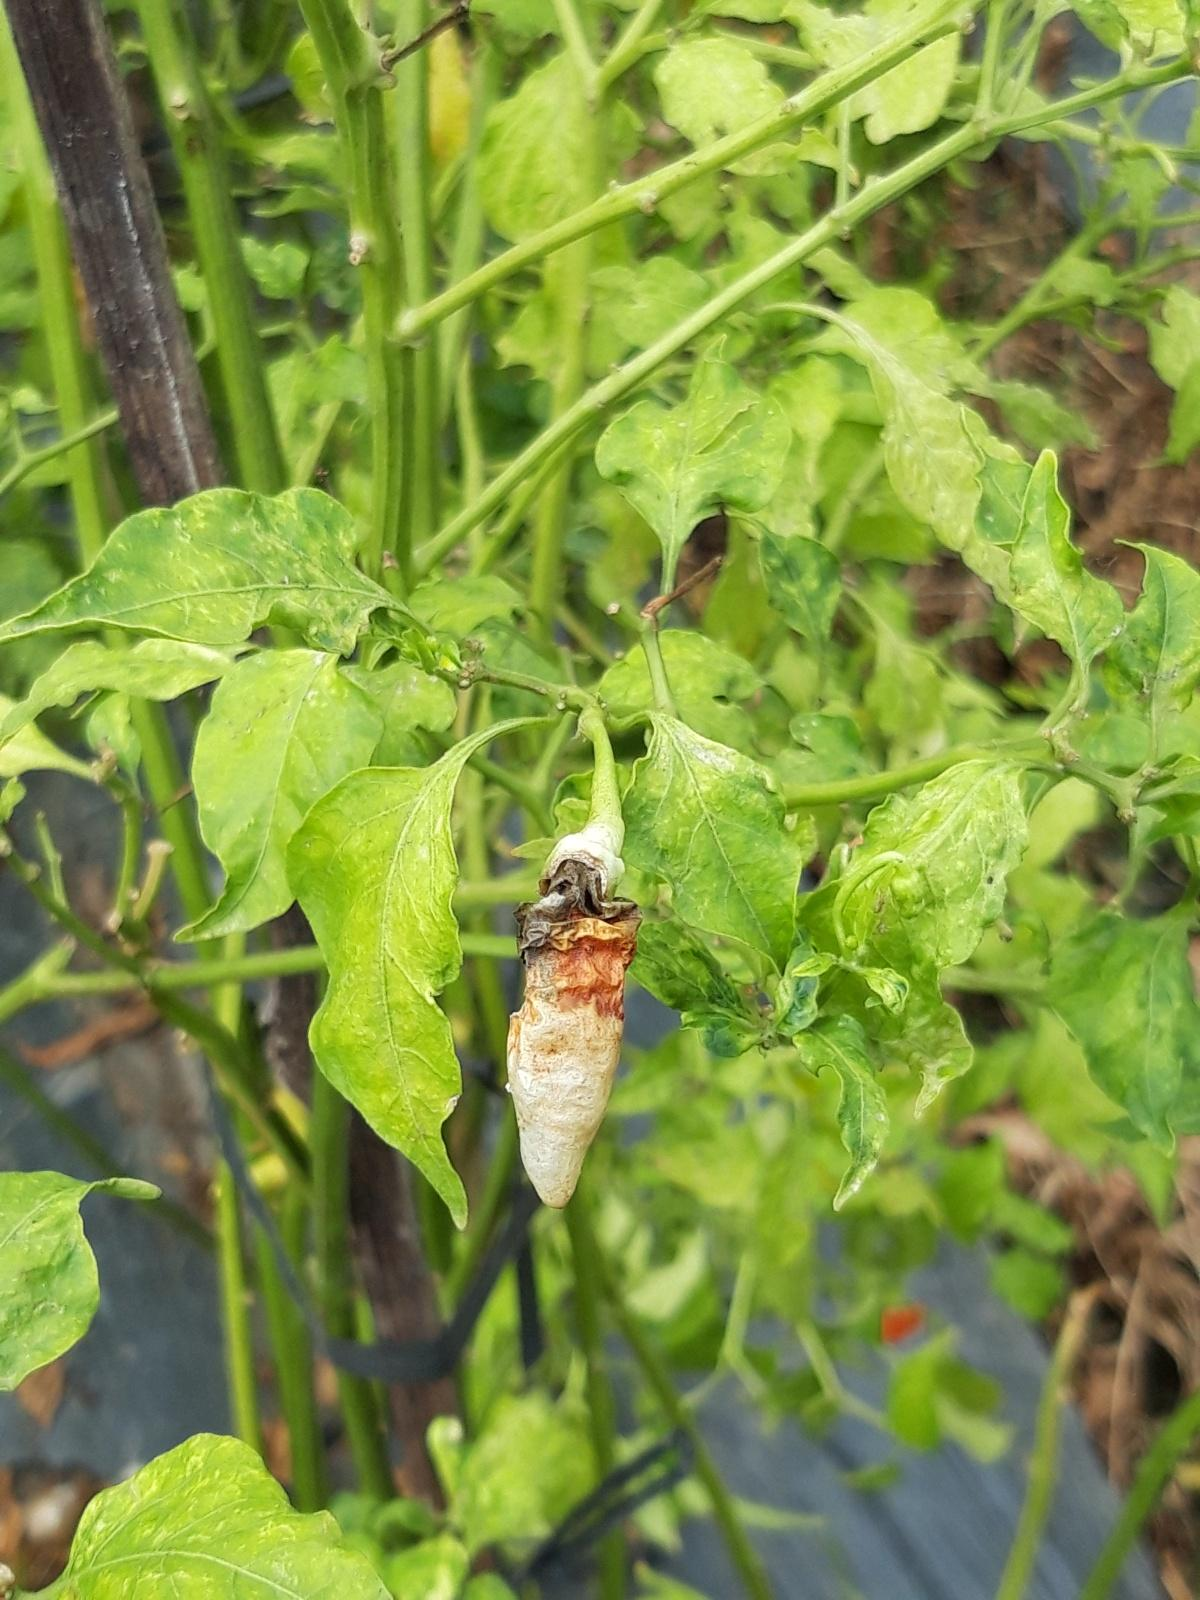antraknosa: (505, 833, 644, 1209)
